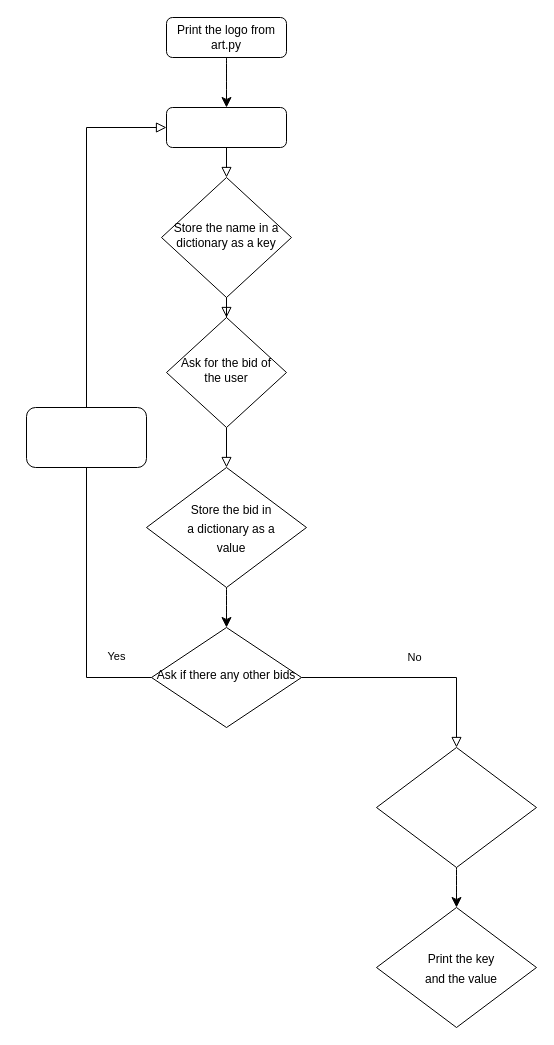
Image size: 554x1045. Some labels were removed from this diagram. The centre of each missing label's shape, as x and y in pixels:
Ask the name of the user: point (226, 127)
Clear the termi nal: point (86, 437)
Compare the values of each key to find the higher value: point (456, 807)
